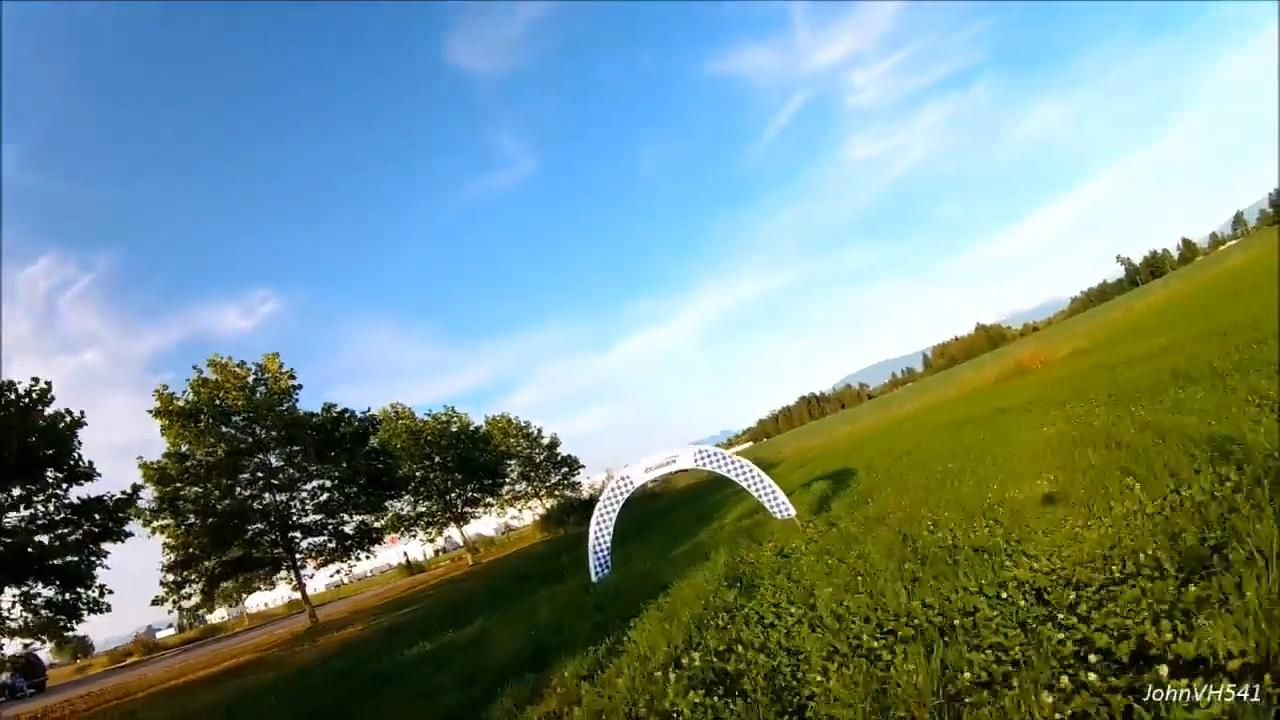gate: (585, 442, 797, 582)
